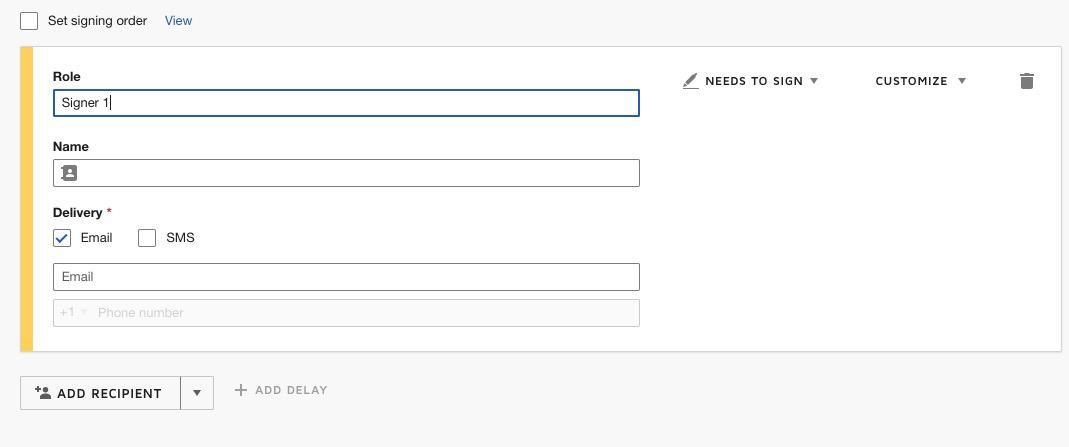checkbox: (20, 12, 40, 33), (52, 230, 73, 249), (139, 229, 158, 248)
dropdown: (20, 377, 213, 412)
icon: (681, 69, 703, 93), (1019, 71, 1037, 95), (233, 382, 250, 400)
input: (55, 299, 643, 330), (54, 263, 641, 292), (53, 161, 640, 188), (55, 91, 640, 118)
label: (706, 70, 809, 92), (866, 72, 954, 93), (47, 13, 151, 30), (256, 385, 328, 400), (54, 205, 113, 221), (82, 231, 117, 247), (51, 71, 86, 86), (165, 231, 198, 246), (51, 141, 92, 153)
